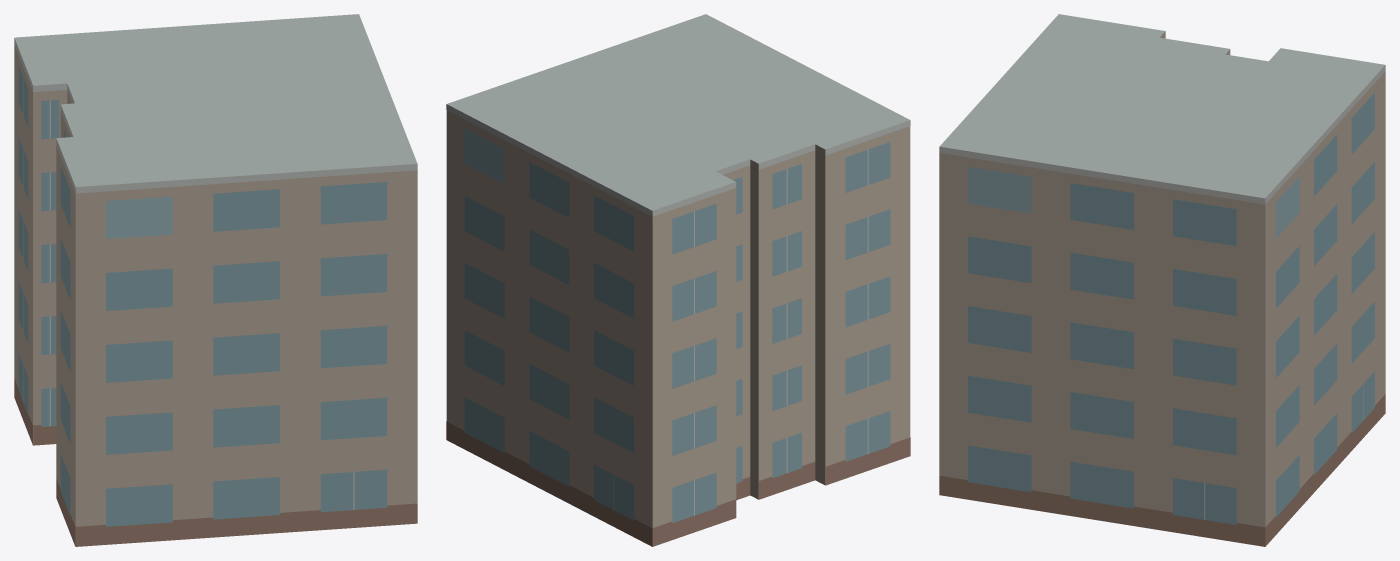
The model's file is survey-upis-32892246.glb.
3 views of the same model, side by side, from view 1: azimuth 30°, elevation 25°; view 2: azimuth 150°, elevation 25°; view 3: azimuth 270°, elevation 25° (orthographic). The views are drawn at different scales.
Visible parts, largest first — view 1: survey-upis-32892246.tmp; view 2: survey-upis-32892246.tmp; view 3: survey-upis-32892246.tmp.
Part boxes in pixels (bbox=[...]): survey-upis-32892246.tmp: bbox=[14, 14, 417, 546]; survey-upis-32892246.tmp: bbox=[446, 14, 910, 546]; survey-upis-32892246.tmp: bbox=[939, 14, 1385, 546].
Bounding box in the file's own units: 15.61 × 13.75 × 15.96.
